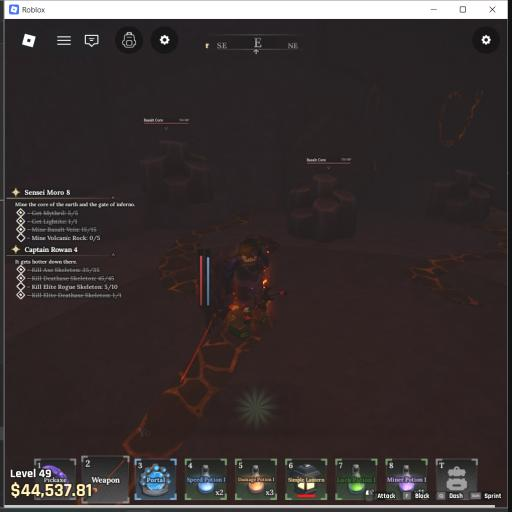player: (216, 239, 269, 337)
rock: (288, 174, 357, 242), (141, 140, 212, 206), (428, 170, 493, 220)
